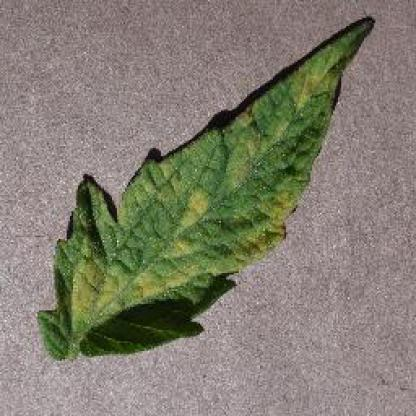bad leaf: (62, 14, 366, 354)
